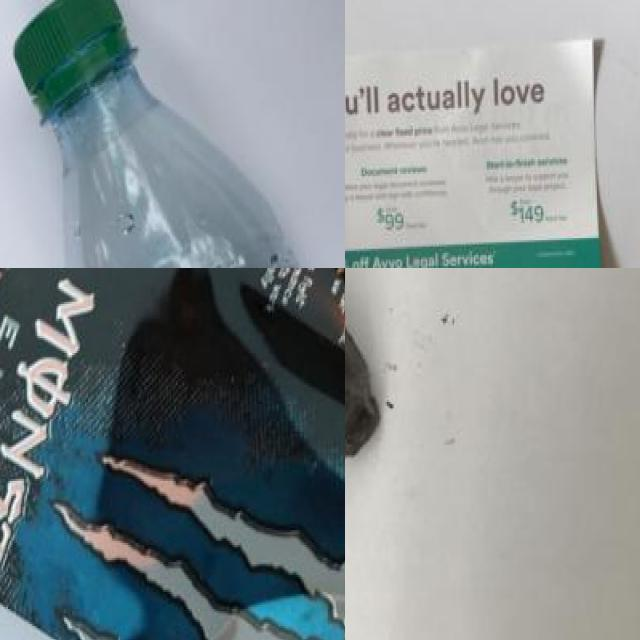compost: (345, 268, 431, 489)
paper: (345, 43, 618, 268)
plastic: (0, 268, 345, 640), (9, 0, 345, 268)
